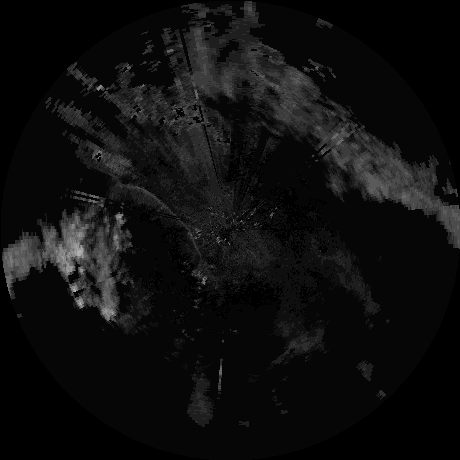frontgust: (115, 184, 201, 261)
